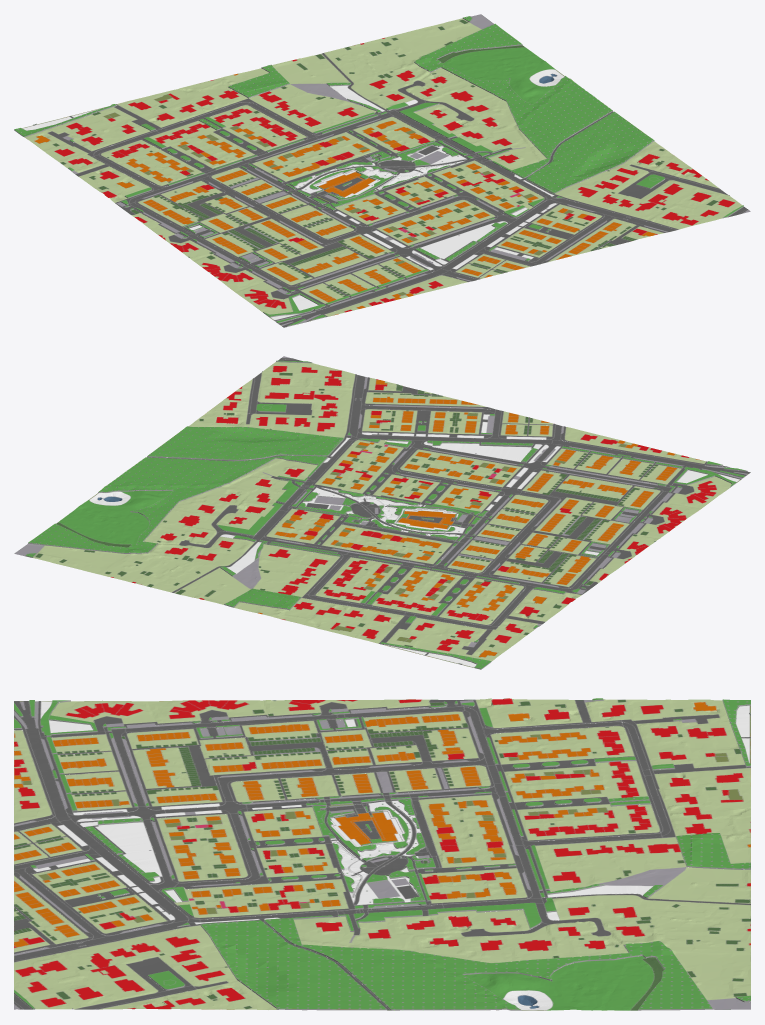
File: Terrain_Objects_Scenario2.fbx
3 views of the same model, one above another, from view 1: azimuth 30°, elevation 25°; view 2: azimuth 150°, elevation 25°; view 3: azimuth 270°, elevation 25° (orthographic). The views are drawn at different scales.
Bounding box in the file's own units: 500 × 500 × 4.89.
1 material, 1 textured.
